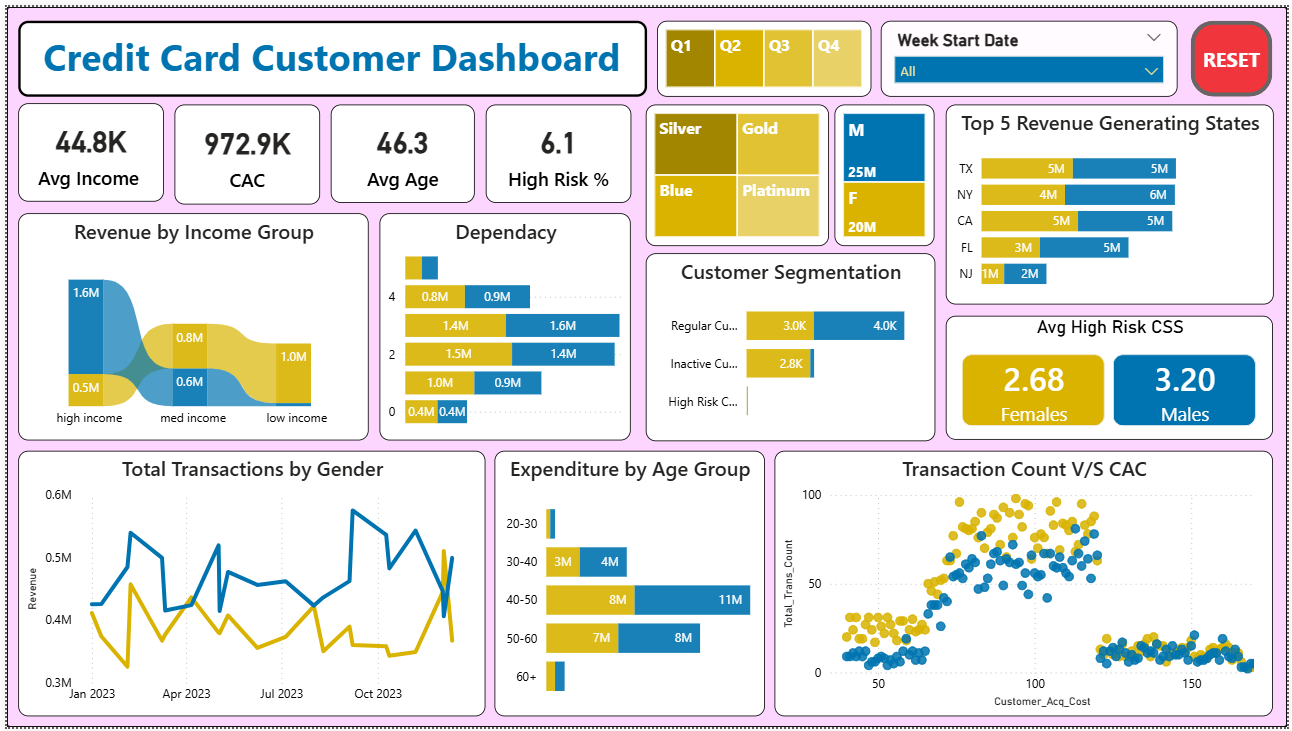

The page's visual inventory and layout, read from the dashboard file:
{"tool":"powerbi","page":{"name":"CC Customer","canvas":[1280,720],"ordinal":1},"visuals":[{"type":"ribbonChart","title":"Revenue by Income Group ","fields":{"Category":["customer.Income_Group"],"Series":["customer.Gender"],"Y":["Sum(credit_card.rev)"]},"box":[11.4,205.7,350,227.1],"z":0},{"type":"textbox","box":[11.4,14.3,628.6,75.7],"z":1000},{"type":"card","fields":{"Values":["credit_card.High Risk %"]},"box":[478.6,97.1,145.7,98.6],"z":2000},{"type":"card","fields":{"Values":["Median(customer.Income)"]},"box":[11.1,96.3,145.7,98.8],"z":3000},{"type":"card","fields":{"Values":["Avg(customer.Customer_Age)"]},"box":[323.7,97.1,144.3,98.6],"z":4000},{"type":"card","fields":{"Values":["Sum(credit_card.Customer_Acq_Cost)"]},"box":[167.4,97.5,145.7,100],"z":5000},{"type":"treemap","fields":{"Group":["credit_card.Qtr"],"Values":["Count(credit_card.Qtr)"]},"box":[650,14.3,214.3,75.7],"z":6000},{"type":"treemap","fields":{"Group":["customer.Gender"],"Values":["Sum(credit_card.Total_Trans_Amt)"]},"box":[827.7,96.9,100,141.5],"z":7000},{"type":"barChart","title":"Top 5 Revenue Generating States","fields":{"Category":["customer.state_cd"],"Series":["customer.Gender"],"Y":["Sum(credit_card.Total_Trans_Amt)"]},"box":[938.5,96.9,327.7,200],"z":8000},{"type":"treemap","fields":{"Values":["Avg(credit_card.Client_Num)"],"Group":["credit_card.Card_Category"]},"box":[638.6,97.1,182.9,141.4],"z":9000},{"type":"slicer","fields":{"Values":["credit_card.Week_Start_Date"]},"box":[874.3,14.3,297.1,75.7],"z":10000},{"type":"actionButton","box":[1184.3,14.3,81.4,75.7],"z":11000},{"type":"lineChart","title":"Total Transactions by Gender","fields":{"Category":["credit_card.Week_Start_Date.Variation.Date Hierarchy.Year","credit_card.Week_Start_Date.Variation.Date Hierarchy.Month","credit_card.Week_Start_Date.Variation.Date Hierarchy.Day"],"Series":["customer.Gender"],"Y":["Sum(credit_card.Total_Trans_Amt)"]},"box":[11.4,444.3,467.1,265.7],"z":12000},{"type":"barChart","title":"Expenditure by Age Group","fields":{"Category":["customer.Age_Group"],"Series":["customer.Gender"],"Y":["Sum(credit_card.Total_Trans_Amt)"]},"box":[487.1,444.3,270,265.7],"z":13000},{"type":"barChart","title":"Dependacy","fields":{"Series":["customer.Gender"],"Category":["customer.Dependent_Count"],"Y":["Sum(credit_card.rev)"]},"box":[372.9,205.7,251.4,227.1],"z":14000},{"type":"scatterChart","title":"Transaction Count V/S CAC","fields":{"X":["credit_card.Customer_Acq_Cost"],"Y":["CountNonNull(credit_card.Total_Trans_Vol)"],"Series":["customer.Gender"]},"box":[767.1,444.3,498.6,265.7],"z":15000},{"type":"cardVisual","title":"Avg Customer Satisfaction Score","fields":{"Data":["customer.F_css","customer.M_css"]},"box":[938.6,308.6,327.1,124.3],"z":16000},{"type":"barChart","title":"Customer Segmentation","fields":{"Category":["credit_card.Customer Segment"],"Series":["customer.Gender"],"Y":["CountNonNull(customer.Client_Num)"]},"box":[638.5,246.2,289.2,187.7],"z":17000}]}

Visuals, with their boxes in screenshot pixels (x1, y1, x2, y2), scaled from the page's 1280x720 canvas onto the 1292x731 screenshot:
"Revenue by Income Group " ribbonChart: rect(12, 209, 365, 439)
textbox: rect(12, 15, 646, 91)
card - credit_card.High Risk %: rect(483, 99, 630, 199)
card - Median(customer.Income): rect(11, 98, 158, 198)
card - Avg(customer.Customer_Age): rect(327, 99, 472, 199)
card - Sum(credit_card.Customer_Acq_Cost): rect(169, 99, 316, 201)
treemap - credit_card.Qtr x Count(credit_card.Qtr): rect(656, 15, 872, 91)
treemap - customer.Gender x Sum(credit_card.Total_Trans_Amt): rect(835, 98, 936, 242)
"Top 5 Revenue Generating States" barChart: rect(947, 98, 1278, 301)
treemap - Avg(credit_card.Client_Num) x credit_card.Card_Category: rect(645, 99, 829, 242)
slicer - credit_card.Week_Start_Date: rect(882, 15, 1182, 91)
actionButton: rect(1195, 15, 1278, 91)
"Total Transactions by Gender" lineChart: rect(12, 451, 483, 721)
"Expenditure by Age Group" barChart: rect(492, 451, 764, 721)
"Dependacy" barChart: rect(376, 209, 630, 439)
"Transaction Count V/S CAC" scatterChart: rect(774, 451, 1278, 721)
"Avg Customer Satisfaction Score" cardVisual: rect(947, 313, 1278, 440)
"Customer Segmentation" barChart: rect(644, 250, 936, 441)
